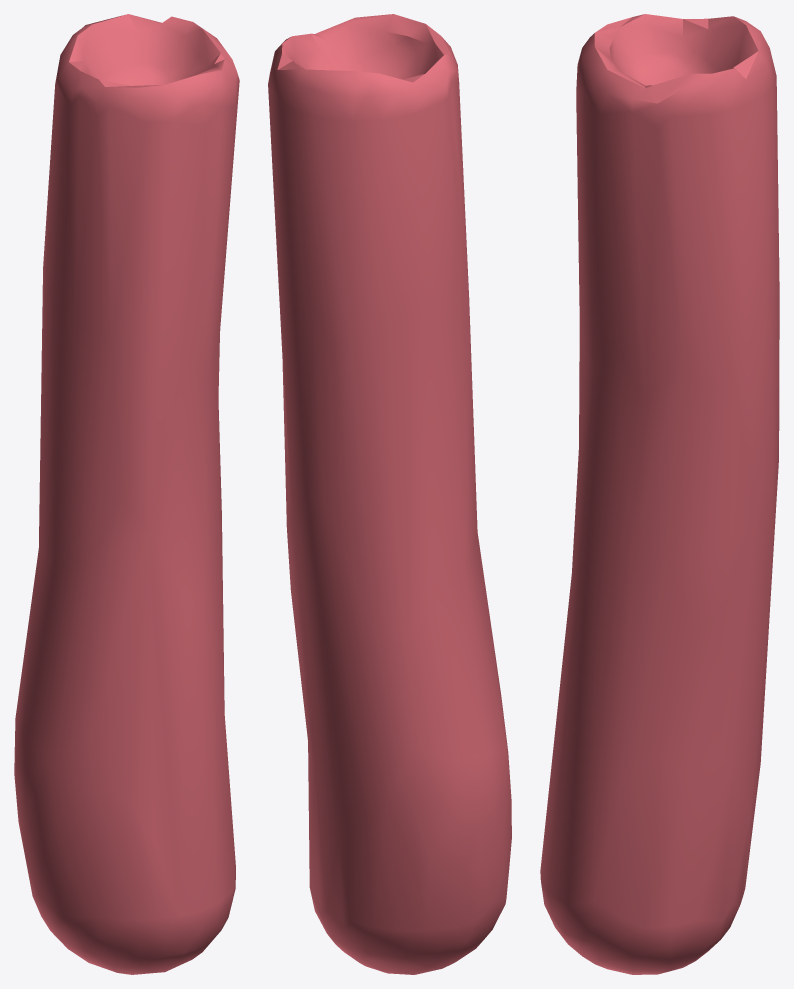
File: fma4754.glb
3 views of the same model, side by side, from view 1: azimuth 30°, elevation 25°; view 2: azimuth 150°, elevation 25°; view 3: azimuth 270°, elevation 25° (orthographic). The views are drawn at different scales.
Visible parts, largest first — view 1: FMA4754; view 2: FMA4754; view 3: FMA4754.
Boxes of the visible parts, bbox=[...] form: FMA4754: bbox=[14, 14, 239, 974]; FMA4754: bbox=[268, 14, 511, 974]; FMA4754: bbox=[540, 14, 779, 974].
Bounding box in the file's own units: 0.00977 × 0.0413 × 0.00949.
